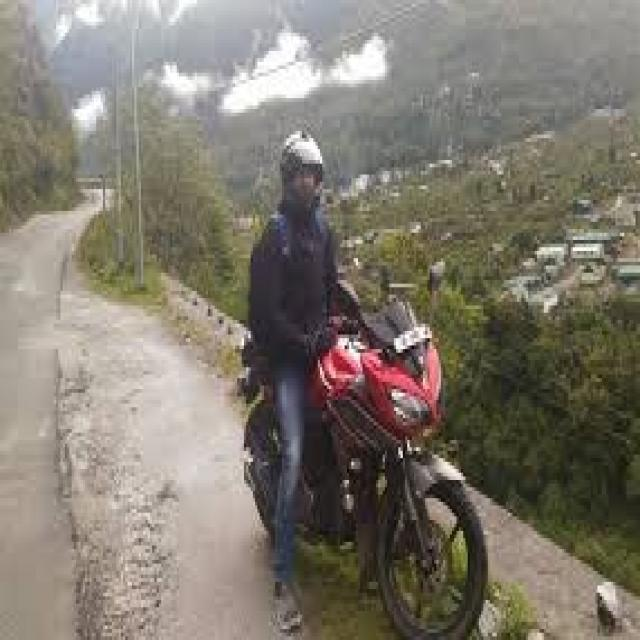not_triplets: (228, 94, 491, 640)
with-helmet: (278, 124, 334, 218)
